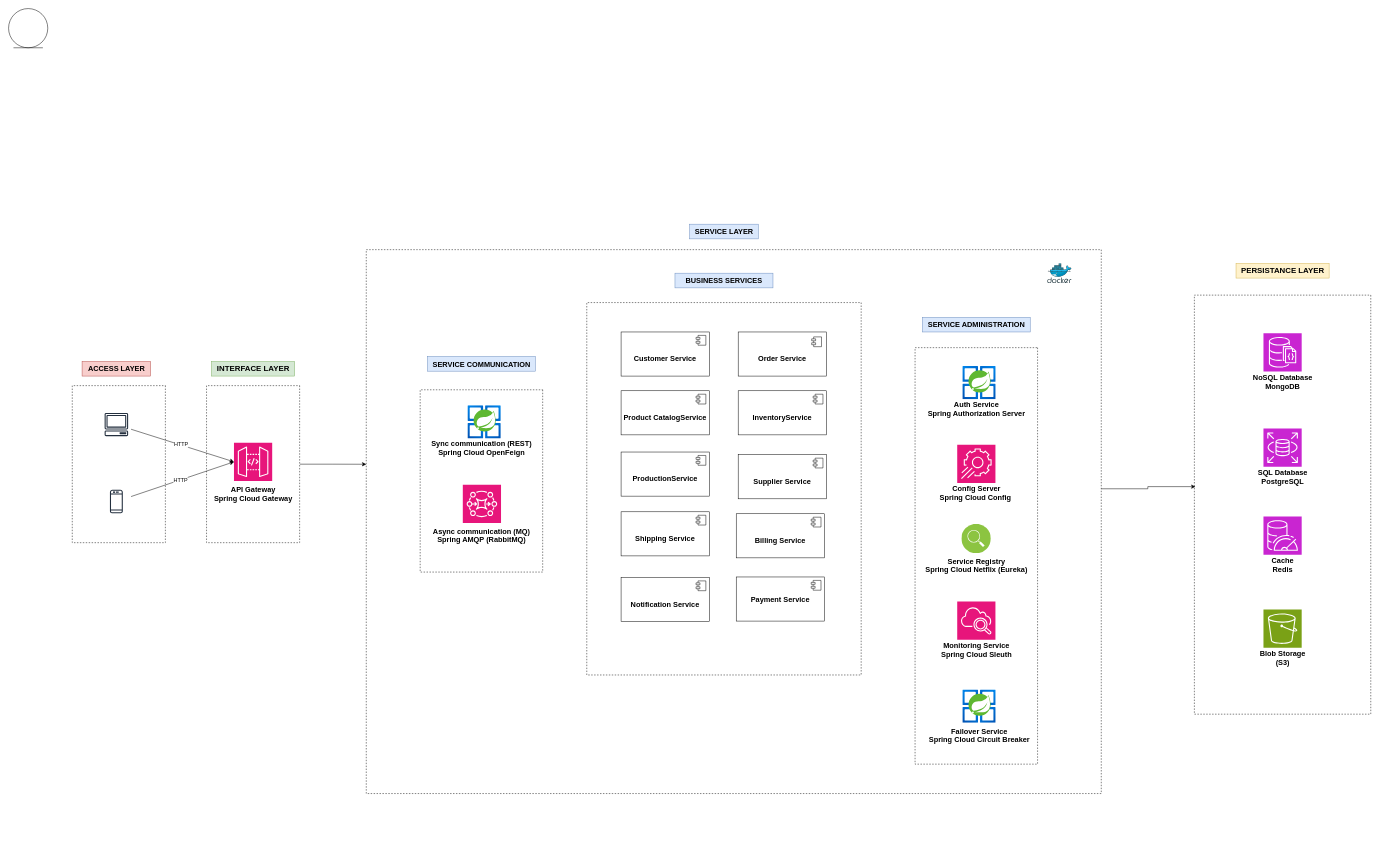
Image size: 1379x841. Some labels were removed from this diagram. The shapes that lost their labels are listed below. From the top down, each one's centre as x and y in pixels, then its label:
At (28,28): "OMS".
At (116,424): "Client".
At (116,501): "Mobile client".
